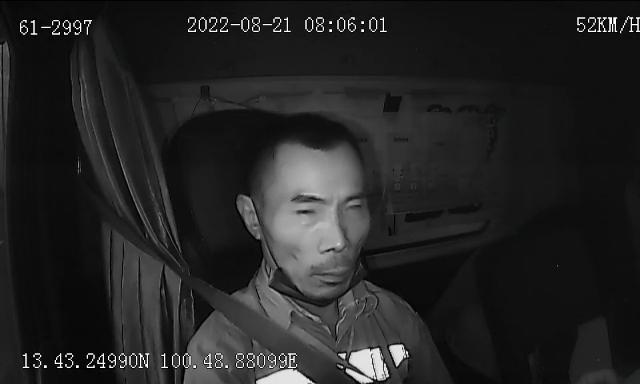SafeDriving: (416, 93, 462, 123), (289, 198, 327, 222), (337, 194, 371, 218)
Seatbelt: (109, 185, 375, 384)
